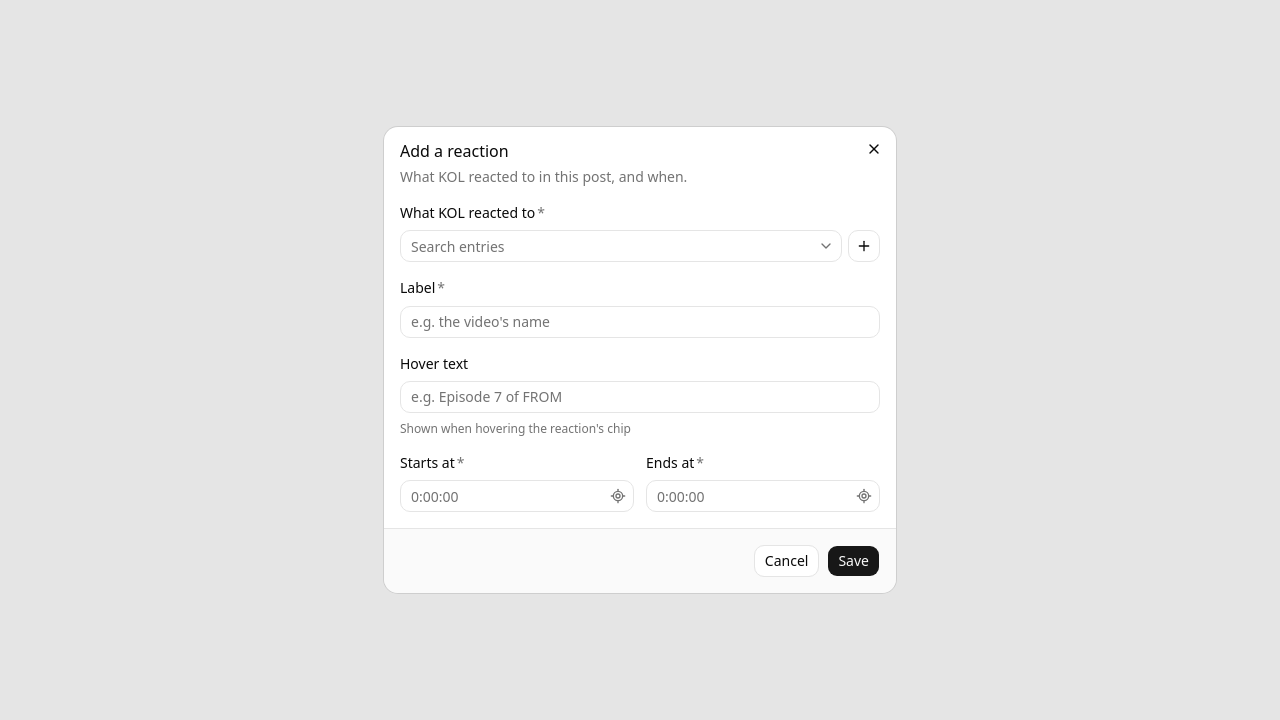
Test: reactionEditorDialog › adding a reaction › lists only the entries that match what was typed
In the dropdown labelled "What KOL reacted to *": (607, 246) top-left (401, 230), bottom-right (814, 262), type "FRIE"
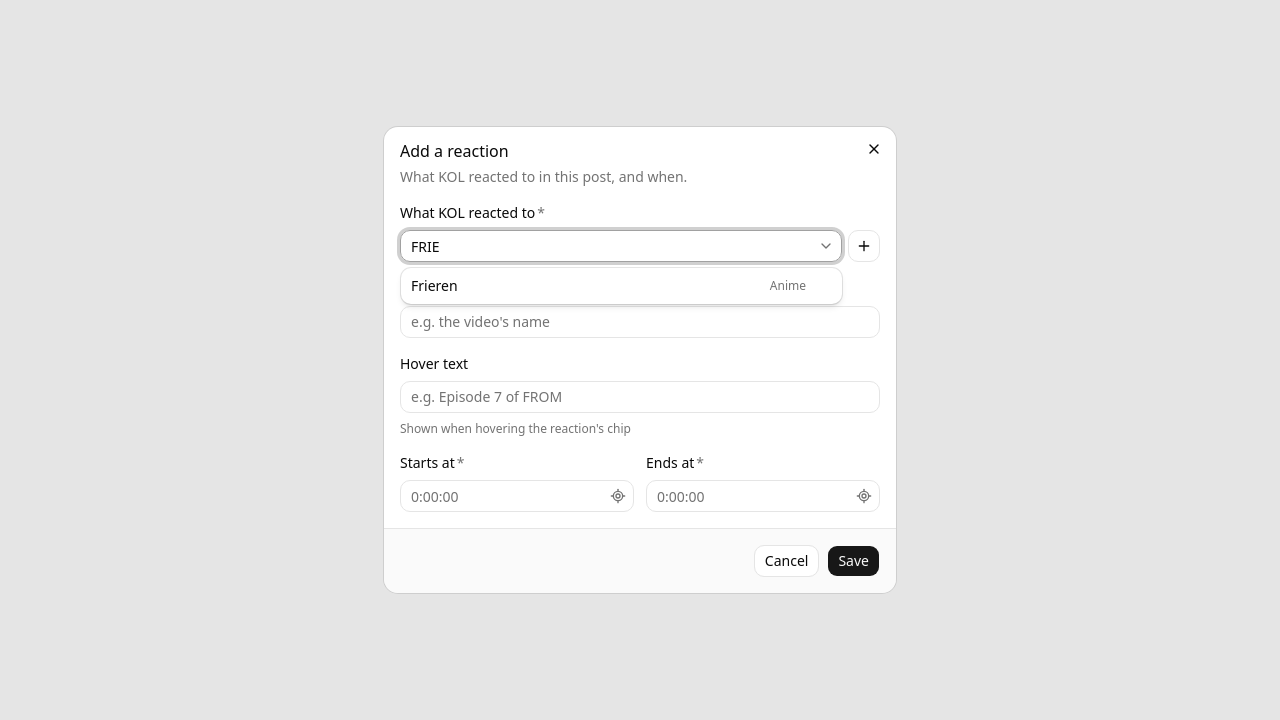
Expected: the option "Frieren Anime" is shown, top-left (405, 272), bottom-right (838, 300)
